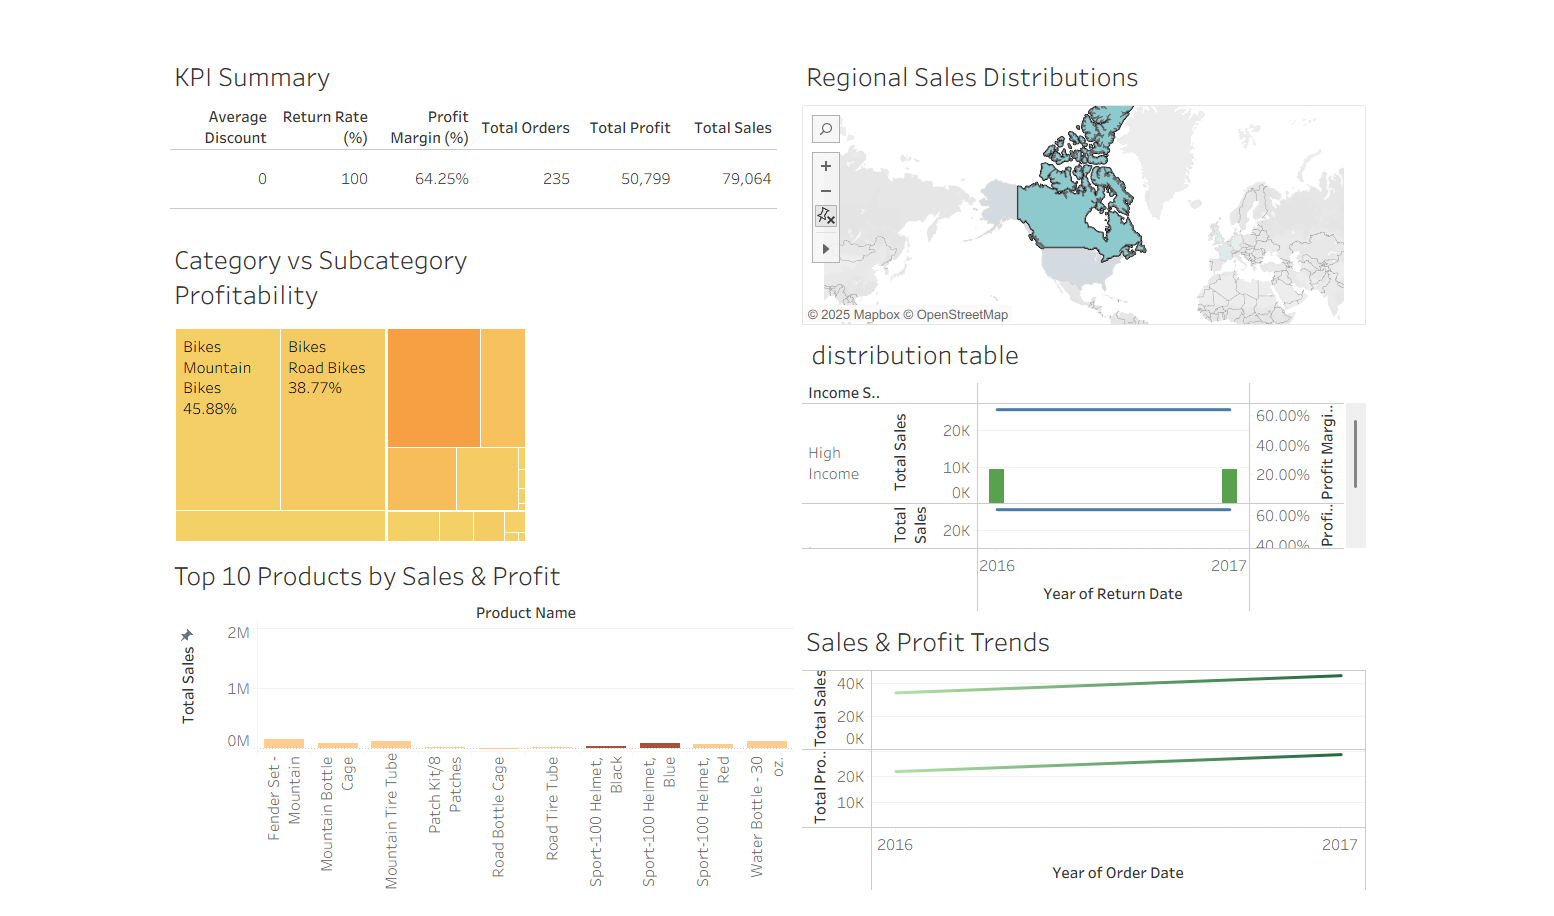

What the dashboard file says about the page in this screenshot:
{"tool":"tableau","page":{"name":"Dashboard 2","canvas":[1000,1000],"units":"permille","ordinal":0},"visuals":[{"type":"worksheet","title":"KPI Summary","mark":"Automatic","box":[6.6,10,518,212]},{"type":"worksheet","title":"Regional Sales Distributions","mark":"Automatic","box":[524.6,10,468.9,322.9]},{"type":"worksheet","title":"Category vs Subcategory Profitability","mark":"Automatic","box":[6.6,222,518,367.8]},{"type":"worksheet","title":" distribution table","mark":"Automatic","rows":["Calculation_162129651341406215","Calculation_162129651328450560","Calculation_162129651328905218"],"cols":["ReturnDate"],"box":[524.6,332.9,468.9,332.9]},{"type":"worksheet","title":"Top 10 Products by Sales & Profit","mark":"Automatic","rows":["Calculation_162129651328450560"],"cols":["ProductName"],"box":[6.6,589.8,518,400.2]},{"type":"worksheet","title":"Sales & Profit Trends","mark":"Line","rows":["Calculation_162129651328450560","Calculation_162129651328724993"],"cols":["OrderDate"],"box":[524.6,665.8,468.9,324.2]}]}

Visuals, with their boxes on the dashboard's canvas, which has no fixed pixel size, in thousandths of its width and height (x1, y1, x2, y2). These are canvas units, not pixel positions in the 1554x916 screenshot, which may show the page scaled, cropped or inside an application window:
"KPI Summary" worksheet: left=7, top=10, right=525, bottom=222
"Regional Sales Distributions" worksheet: left=525, top=10, right=994, bottom=333
"Category vs Subcategory Profitability" worksheet: left=7, top=222, right=525, bottom=590
" distribution table" worksheet: left=525, top=333, right=994, bottom=666
"Top 10 Products by Sales & Profit" worksheet: left=7, top=590, right=525, bottom=990
"Sales & Profit Trends" worksheet (Line marks): left=525, top=666, right=994, bottom=990
